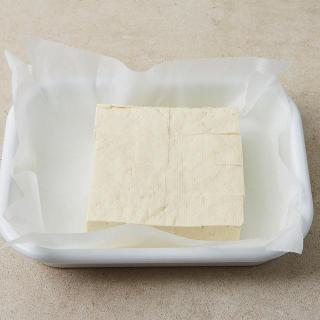Tahu: (78, 91, 267, 250)
